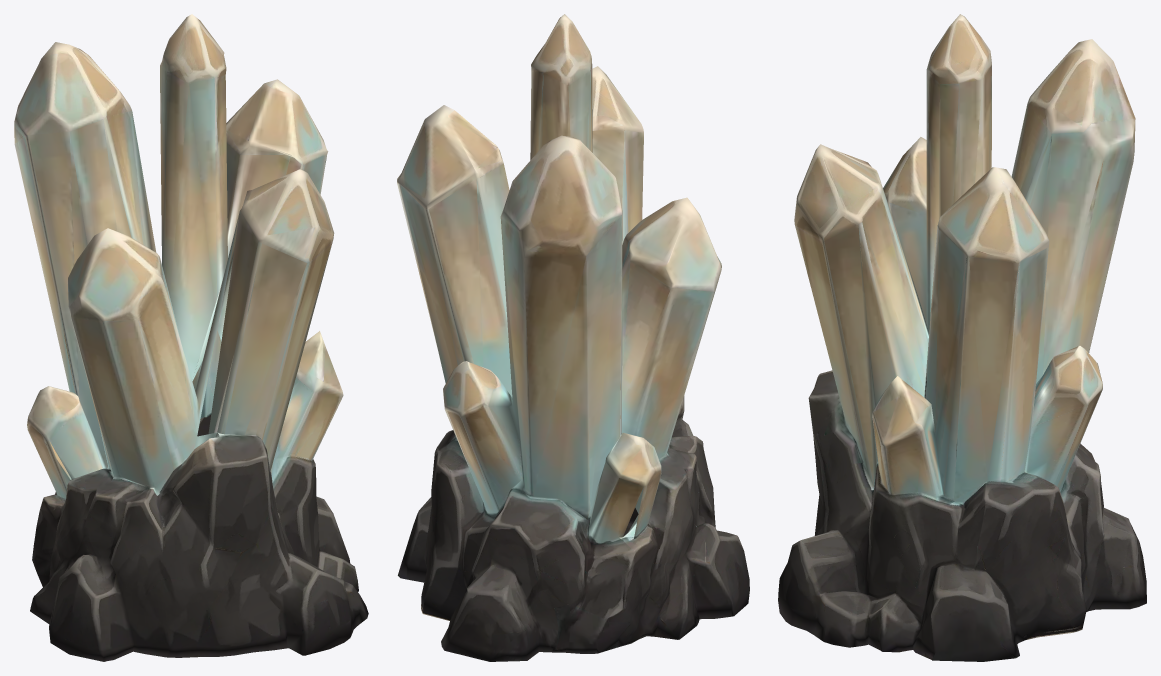
Rendered from crystal.glb.
The picture shows the model from 3 angles, left to right: view 1: azimuth 30°, elevation 25°; view 2: azimuth 150°, elevation 25°; view 3: azimuth 270°, elevation 25°; orthographic projection.
Size of the model in its own units: 0.5502 by 1 by 0.5799.
1 material, 1 textured.
